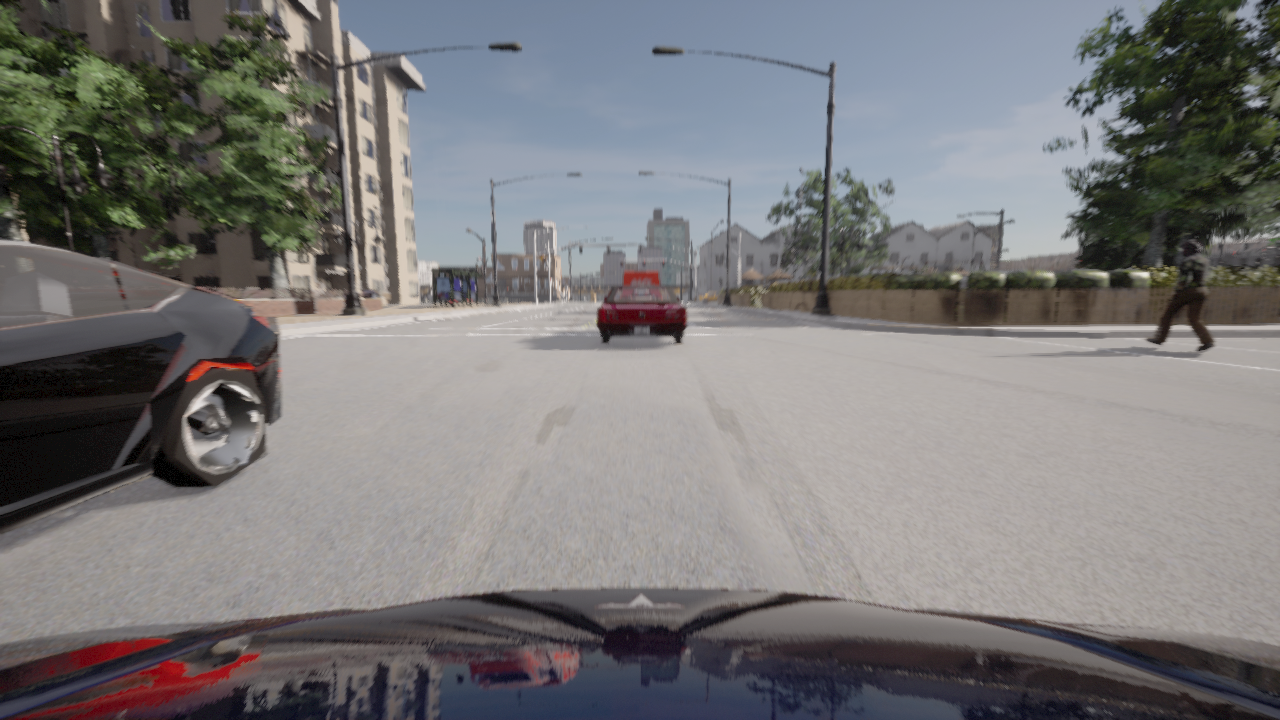cyclist: (0, 588, 1279, 719), (597, 286, 687, 344), (623, 271, 659, 286), (694, 292, 717, 303)
pedestrian: (1146, 240, 1215, 351)
